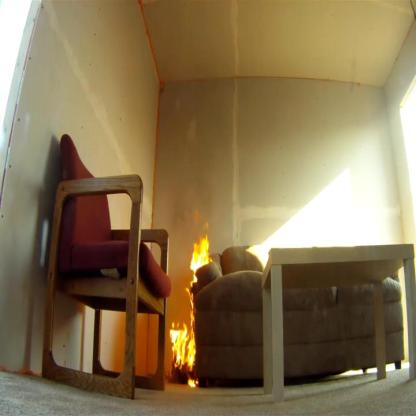fire: (168, 290, 199, 391), (190, 232, 212, 287)
